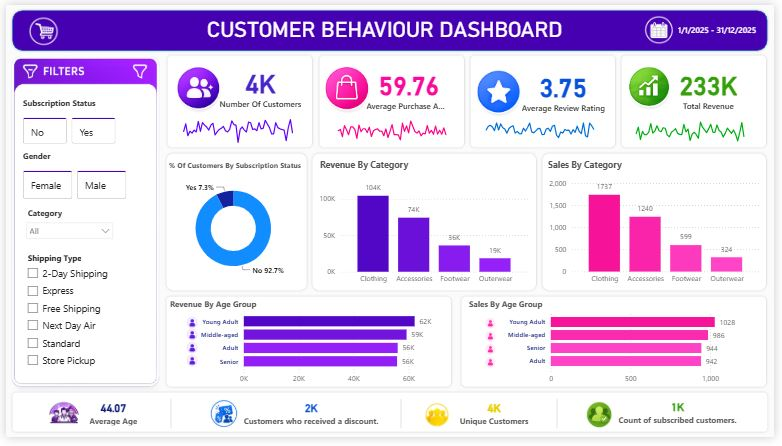

This screenshot's page, from the dashboard's own definition file:
{"tool":"powerbi","page":{"name":"Page 1","canvas":[1280,720],"ordinal":0},"visuals":[{"type":"shape","box":[11.2,105,242.5,528.8],"z":0},{"type":"image","box":[1.2,61.2,261.4,597.1],"z":1000},{"type":"shape","box":[262.7,242.8,241.9,236.3],"z":2000},{"type":"shape","box":[507.3,242.8,380.8,236.3],"z":3000},{"type":"donutChart","title":"% Of Customers By Subscription Status","fields":{"Category":["public customer.subscription_status"],"Y":["Sum(public customer.customer_id)"]},"box":[268.3,275.2,221,194.6],"z":4000},{"type":"shape","box":[889.6,242.8,380.8,236.3],"z":5000},{"type":"clusteredColumnChart","title":"Revenue By Category","fields":{"Category":["public customer.category"],"Y":["Sum(public customer.purchase_amount)"]},"box":[517.1,279.4,358.6,194.6],"z":6000},{"type":"shape","box":[262.7,480.9,482.3,158.5],"z":7000},{"type":"clusteredColumnChart","title":"Sales By Category","fields":{"Category":["public customer.category"],"Y":["CountNonNull(public customer.customer_id)"]},"box":[899.3,278,361.4,196],"z":8000},{"type":"clusteredBarChart","title":"Revenue By Age Group","fields":{"Category":["public customer.age_group"],"Y":["Sum(public customer.purchase_amount)"]},"box":[318.6,497.1,405.7,144.3],"z":9000},{"type":"shape","box":[754.7,480.9,515.7,158.5],"z":10000},{"type":"shape","box":[265.5,79.2,249,161.2],"z":11000},{"type":"clusteredBarChart","title":"Sales By Age Group","fields":{"Category":["public customer.age_group"],"Y":["CountNonNull(public customer.customer_id)"]},"box":[829.8,499,417,141.8],"z":12000},{"type":"shape","box":[6.9,4.2,1266.3,75.1],"z":13000},{"type":"cardVisual","fields":{"Data":["public customer.Num Of Customers"]},"box":[325.6,76.7,198.9,127.8],"z":14000},{"type":"shape","box":[6.9,642.2,1266.3,73.7],"z":15000},{"type":"image","box":[271.1,83.3,104.4,116.7],"z":16000},{"type":"shape","box":[517.5,79.2,249,161.2],"z":17000},{"type":"shape","box":[769.6,79.2,249,161.2],"z":18000},{"type":"shape","box":[1021.6,79.2,249,161.2],"z":19000},{"type":"image","box":[519.8,90.3,100.1,105.6],"z":20000},{"type":"image","box":[752,91.7,129.3,102.9],"z":21000},{"type":"image","box":[999.4,93.8,136.2,97.3],"z":22000},{"type":"cardVisual","fields":{"Data":["public customer.Average Purchase Amount"]},"box":[571.3,79.2,198.8,127.9],"z":23000},{"type":"cardVisual","fields":{"Data":["public customer.Average Review Rating"]},"box":[829.8,83.4,198.8,127.9],"z":24000},{"type":"cardVisual","fields":{"Data":["public customer.Total Revenue"]},"box":[1071.7,79.2,198.8,127.9],"z":25000},{"type":"shape","title":"% Of Customers By Subscription Status","box":[272.4,258.5,261.3,44.5],"z":26000},{"type":"shape","title":"Revenue By Category","box":[522.6,255.8,261.3,44.5],"z":27000},{"type":"shape","title":"Sales By Category","box":[903.5,254.4,261.3,44.5],"z":28000},{"type":"shape","title":"Revenue By Age Group","box":[273.8,489.3,261.3,44.5],"z":29000},{"type":"shape","title":"Sales By Age Group","box":[771.4,490,261.4,45.7],"z":30000},{"type":"image","box":[292.9,517.9,34.2,20.5],"z":31000},{"type":"image","box":[292.9,539.1,34.2,20.5],"z":32000},{"type":"image","box":[292.9,560.4,34.2,20.5],"z":33000},{"type":"image","box":[292.9,581.6,34.2,20.5],"z":34000},{"type":"image","box":[790.4,520,34,20],"z":35000},{"type":"image","box":[790.4,541.6,34,20],"z":36000},{"type":"image","box":[790.4,563.2,34,20],"z":37000},{"type":"image","box":[790.4,584.8,34,20],"z":38000},{"type":"shape","title":"CUSTOMER BEHAVIOUR DASHBOARD","box":[335,20,610,48.3],"z":39000},{"type":"advancedSlicerVisual","fields":{"Values":["public customer.subscription_status"]},"box":[23.8,155,165.2,81.9],"z":40000},{"type":"advancedSlicerVisual","fields":{"Values":["public customer.gender"]},"box":[23.8,242.5,182.5,85],"z":41000},{"type":"slicer","fields":{"Values":["public customer.shipping_type"]},"box":[23.8,407.5,170.8,207.5],"z":42000},{"type":"slicer","title":"dff","fields":{"Values":["public customer.category"]},"box":[23.8,332.5,165.2,80.5],"z":43000},{"type":"cardVisual","fields":{"Data":["public customer.Average Age"]},"box":[108.6,641.4,141,78],"z":44000},{"type":"cardVisual","fields":{"Data":["public customer.Distinct Customers"]},"box":[704.3,641.4,217.1,78.6],"z":45000},{"type":"cardVisual","fields":{"Data":["public customer.DAX Subscribers"]},"box":[978.6,640,282.9,78.6],"z":46000},{"type":"cardVisual","fields":{"Data":["public customer.DAX Discount Customers"]},"box":[367.1,641.4,284.3,78.6],"z":47000},{"type":"image","box":[693.7,647.5,50,71.7],"z":48000},{"type":"image","box":[334.3,647.1,55.7,71.4],"z":49000},{"type":"image","box":[960,652.9,57.1,61.4],"z":50000},{"type":"image","box":[70,645,52.5,69.2],"z":51000},{"type":"shape","box":[244.3,656.7,60,48.6],"z":52000},{"type":"shape","box":[628.6,656.7,60,48.6],"z":53000},{"type":"shape","box":[888.6,656.7,60,48.6],"z":54000},{"type":"lineChart","fields":{"Y":["public customer.Distinct Customers"],"Category":["public customer.age"]},"box":[219,174.5,309,61],"z":55000},{"type":"lineChart","fields":{"Y":["public customer.Average Review Rating"],"Category":["public customer.age"]},"box":[722.9,177.1,305.7,61.4],"z":55001},{"type":"lineChart","fields":{"Y":["public customer.Average Purchase Amount"],"Category":["public customer.age"]},"box":[476,174.5,306,61],"z":55002},{"type":"lineChart","fields":{"Y":["public customer.Total Revenue"],"Category":["public customer.age"]},"box":[974,174.5,306,61],"z":55003},{"type":"shape","title":"1/1/2025 - 31/12/2025","box":[1120,33.3,160,75],"z":55004},{"type":"image","box":[1041.7,16.7,91.7,50],"z":55005},{"type":"image","box":[36.7,15,51.7,56.7],"z":55006}]}

Visuals, with their boxes in screenshot pixels (x1, y1, x2, y2), scaled from the page's 1280x720 canvas onto the 782x446 screenshot:
shape: {"x1": 7, "y1": 65, "x2": 155, "y2": 393}
image: {"x1": 1, "y1": 38, "x2": 160, "y2": 408}
shape: {"x1": 160, "y1": 150, "x2": 308, "y2": 297}
shape: {"x1": 310, "y1": 150, "x2": 543, "y2": 297}
"% Of Customers By Subscription Status" donutChart: {"x1": 164, "y1": 170, "x2": 299, "y2": 291}
shape: {"x1": 543, "y1": 150, "x2": 776, "y2": 297}
"Revenue By Category" clusteredColumnChart: {"x1": 316, "y1": 173, "x2": 535, "y2": 294}
shape: {"x1": 160, "y1": 298, "x2": 455, "y2": 396}
"Sales By Category" clusteredColumnChart: {"x1": 549, "y1": 172, "x2": 770, "y2": 294}
"Revenue By Age Group" clusteredBarChart: {"x1": 195, "y1": 308, "x2": 443, "y2": 397}
shape: {"x1": 461, "y1": 298, "x2": 776, "y2": 396}
shape: {"x1": 162, "y1": 49, "x2": 314, "y2": 149}
"Sales By Age Group" clusteredBarChart: {"x1": 507, "y1": 309, "x2": 762, "y2": 397}
shape: {"x1": 4, "y1": 3, "x2": 778, "y2": 49}
cardVisual - public customer.Num Of Customers: {"x1": 199, "y1": 48, "x2": 320, "y2": 127}
shape: {"x1": 4, "y1": 398, "x2": 778, "y2": 443}
image: {"x1": 166, "y1": 52, "x2": 229, "y2": 124}
shape: {"x1": 316, "y1": 49, "x2": 468, "y2": 149}
shape: {"x1": 470, "y1": 49, "x2": 622, "y2": 149}
shape: {"x1": 624, "y1": 49, "x2": 776, "y2": 149}
image: {"x1": 318, "y1": 56, "x2": 379, "y2": 121}
image: {"x1": 459, "y1": 57, "x2": 538, "y2": 121}
image: {"x1": 611, "y1": 58, "x2": 694, "y2": 118}
cardVisual - public customer.Average Purchase Amount: {"x1": 349, "y1": 49, "x2": 470, "y2": 128}
cardVisual - public customer.Average Review Rating: {"x1": 507, "y1": 52, "x2": 628, "y2": 131}
cardVisual - public customer.Total Revenue: {"x1": 655, "y1": 49, "x2": 776, "y2": 128}
"% Of Customers By Subscription Status" shape: {"x1": 166, "y1": 160, "x2": 326, "y2": 188}
"Revenue By Category" shape: {"x1": 319, "y1": 158, "x2": 479, "y2": 186}
"Sales By Category" shape: {"x1": 552, "y1": 158, "x2": 712, "y2": 185}
"Revenue By Age Group" shape: {"x1": 167, "y1": 303, "x2": 327, "y2": 331}
"Sales By Age Group" shape: {"x1": 471, "y1": 304, "x2": 631, "y2": 332}
image: {"x1": 179, "y1": 321, "x2": 200, "y2": 334}
image: {"x1": 179, "y1": 334, "x2": 200, "y2": 347}
image: {"x1": 179, "y1": 347, "x2": 200, "y2": 360}
image: {"x1": 179, "y1": 360, "x2": 200, "y2": 373}
image: {"x1": 483, "y1": 322, "x2": 504, "y2": 334}
image: {"x1": 483, "y1": 335, "x2": 504, "y2": 348}
image: {"x1": 483, "y1": 349, "x2": 504, "y2": 361}
image: {"x1": 483, "y1": 362, "x2": 504, "y2": 375}
"CUSTOMER BEHAVIOUR DASHBOARD" shape: {"x1": 205, "y1": 12, "x2": 577, "y2": 42}
advancedSlicerVisual - public customer.subscription_status: {"x1": 15, "y1": 96, "x2": 115, "y2": 147}
advancedSlicerVisual - public customer.gender: {"x1": 15, "y1": 150, "x2": 126, "y2": 203}
slicer - public customer.shipping_type: {"x1": 15, "y1": 252, "x2": 119, "y2": 381}
"dff" slicer: {"x1": 15, "y1": 206, "x2": 115, "y2": 256}
cardVisual - public customer.Average Age: {"x1": 66, "y1": 397, "x2": 152, "y2": 445}
cardVisual - public customer.Distinct Customers: {"x1": 430, "y1": 397, "x2": 563, "y2": 445}
cardVisual - public customer.DAX Subscribers: {"x1": 598, "y1": 396, "x2": 771, "y2": 445}
cardVisual - public customer.DAX Discount Customers: {"x1": 224, "y1": 397, "x2": 398, "y2": 445}
image: {"x1": 424, "y1": 401, "x2": 454, "y2": 445}
image: {"x1": 204, "y1": 401, "x2": 238, "y2": 445}
image: {"x1": 586, "y1": 404, "x2": 621, "y2": 442}
image: {"x1": 43, "y1": 400, "x2": 75, "y2": 442}
shape: {"x1": 149, "y1": 407, "x2": 186, "y2": 437}
shape: {"x1": 384, "y1": 407, "x2": 421, "y2": 437}
shape: {"x1": 543, "y1": 407, "x2": 580, "y2": 437}
lineChart - public customer.Distinct Customers x public customer.age: {"x1": 134, "y1": 108, "x2": 323, "y2": 146}
lineChart - public customer.Average Review Rating x public customer.age: {"x1": 442, "y1": 110, "x2": 628, "y2": 148}
lineChart - public customer.Average Purchase Amount x public customer.age: {"x1": 291, "y1": 108, "x2": 478, "y2": 146}
lineChart - public customer.Total Revenue x public customer.age: {"x1": 595, "y1": 108, "x2": 781, "y2": 146}
"1/1/2025 - 31/12/2025" shape: {"x1": 684, "y1": 21, "x2": 781, "y2": 67}
image: {"x1": 636, "y1": 10, "x2": 692, "y2": 41}
image: {"x1": 22, "y1": 9, "x2": 54, "y2": 44}
